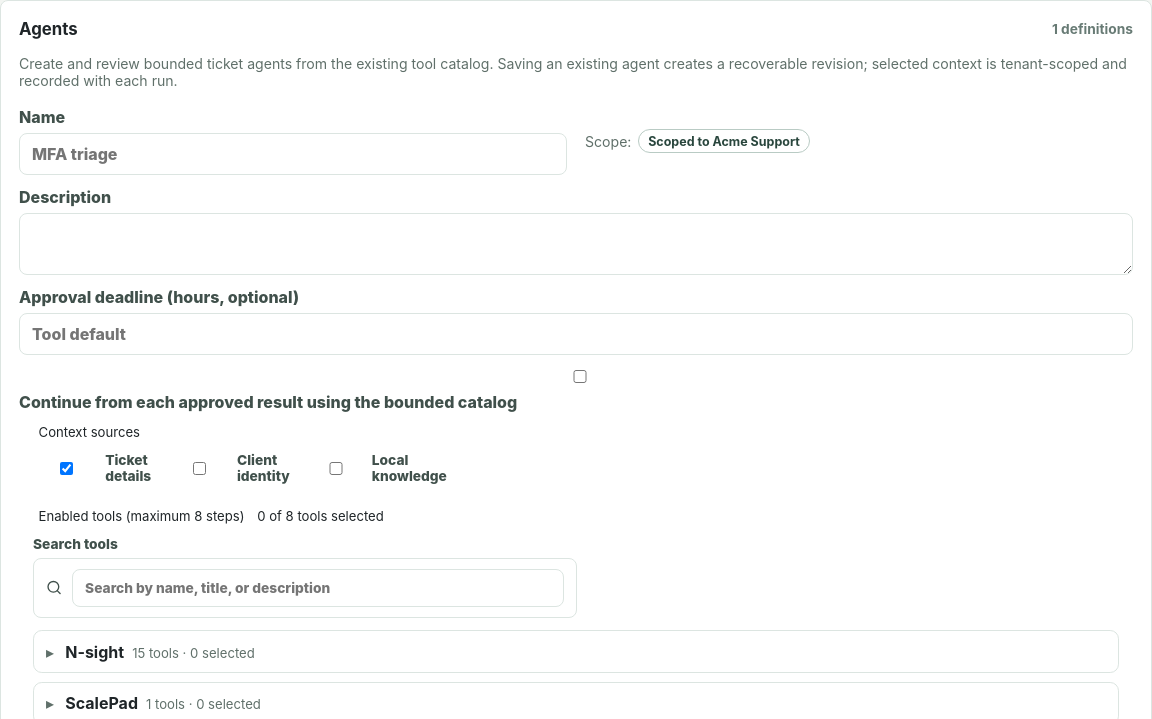
Test case: Agents › filters tools by name, title, and description and expands matching groups
This screenshot has width=1152, height=719.
Type "classification" into the search field labelled "Search tools" at x=318, y=588, box x1=72 y1=569 x2=564 y2=607
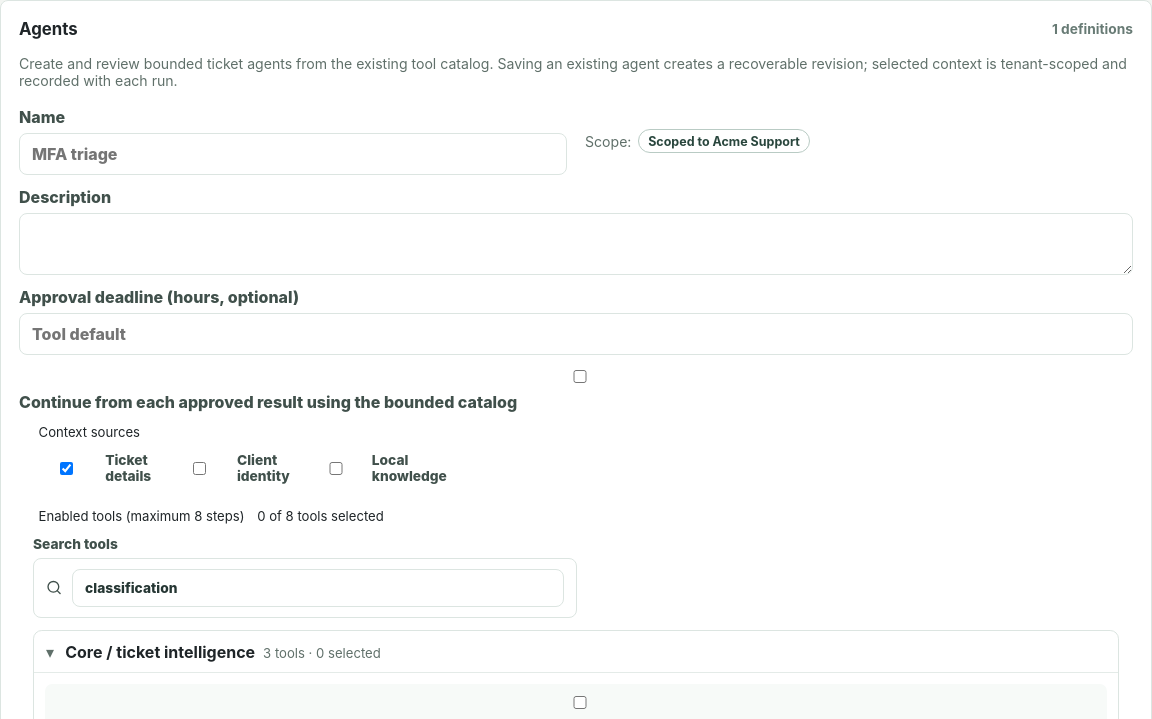
Check: the checkbox labelled "Ticket Triage" is shown, box x1=58 y1=696 x2=1102 y2=709
Replace the text in the search field labelled "Search tools" with "quarantine" at x=318, y=588, box x1=72 y1=569 x2=564 y2=607
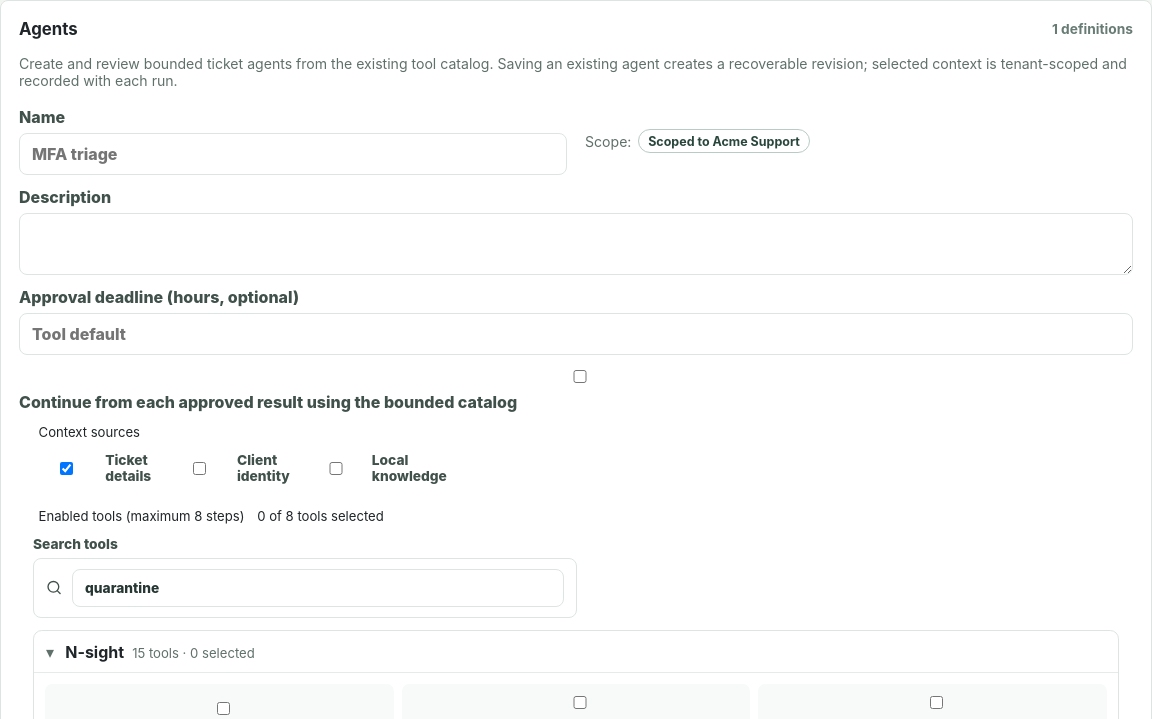
Check: the checkbox labelled "N-sight antivirus quarantine lookup" is shown, box x1=58 y1=702 x2=389 y2=715
